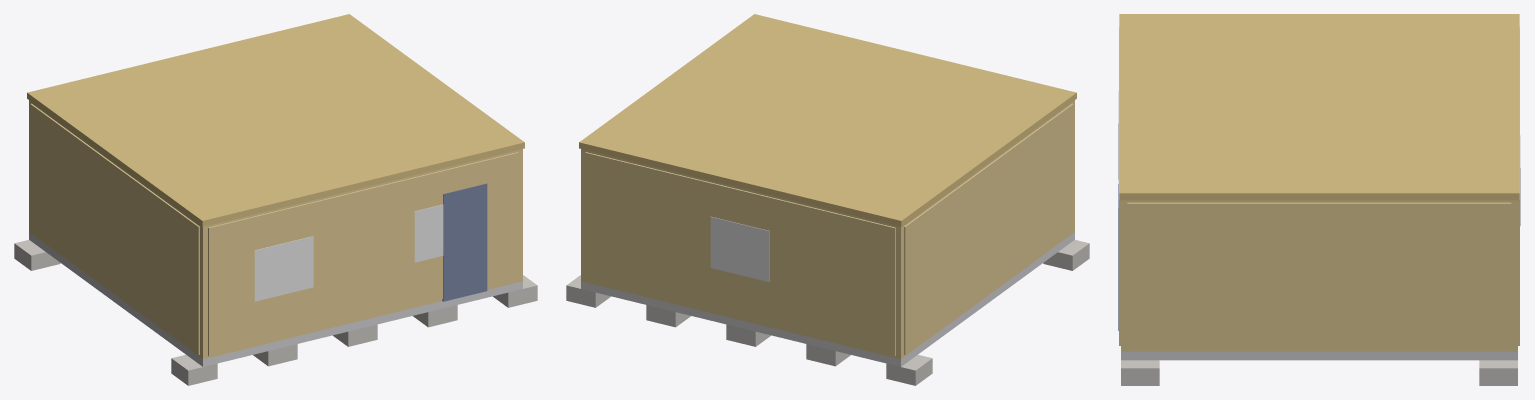
File: Studio-20-Base-GoldenTan-LOD2.glb
The picture shows the model from 3 angles, left to right: view 1: azimuth 30°, elevation 25°; view 2: azimuth 150°, elevation 25°; view 3: azimuth 270°, elevation 25°; orthographic projection. The views are drawn at different scales.
Visible parts, largest first — view 1: RoofMain, ExteriorPanelsStandard, EntryDoor, WindowsStandard, FoundationBlocks, ExteriorShell, BaseFrame; view 2: ExteriorPanelsStandard, RoofMain, FoundationBlocks, BaseFrame, ExteriorShell, WindowsStandard; view 3: RoofMain, ExteriorPanelsStandard, ExteriorShell, BaseFrame, FoundationBlocks.
Boxes of the visible parts, bbox=[...] form: RoofMain: bbox=[27, 14, 524, 226]; ExteriorPanelsStandard: bbox=[30, 103, 518, 355]; EntryDoor: bbox=[442, 183, 487, 301]; WindowsStandard: bbox=[254, 204, 443, 301]; FoundationBlocks: bbox=[14, 240, 537, 385]; ExteriorShell: bbox=[29, 100, 522, 359]; BaseFrame: bbox=[29, 232, 522, 366]; ExteriorPanelsStandard: bbox=[585, 103, 1073, 355]; RoofMain: bbox=[579, 14, 1076, 226]; FoundationBlocks: bbox=[566, 240, 1089, 385]; BaseFrame: bbox=[581, 232, 1074, 366]; ExteriorShell: bbox=[581, 100, 1074, 359]; WindowsStandard: bbox=[710, 216, 769, 281]; RoofMain: bbox=[1119, 14, 1519, 200]; ExteriorPanelsStandard: bbox=[1119, 27, 1519, 349]; ExteriorShell: bbox=[1121, 200, 1517, 351]; BaseFrame: bbox=[1121, 351, 1517, 360]; FoundationBlocks: bbox=[1121, 360, 1517, 385].
Bounding box in the file's own units: 7.14 × 3.17 × 6.24.
